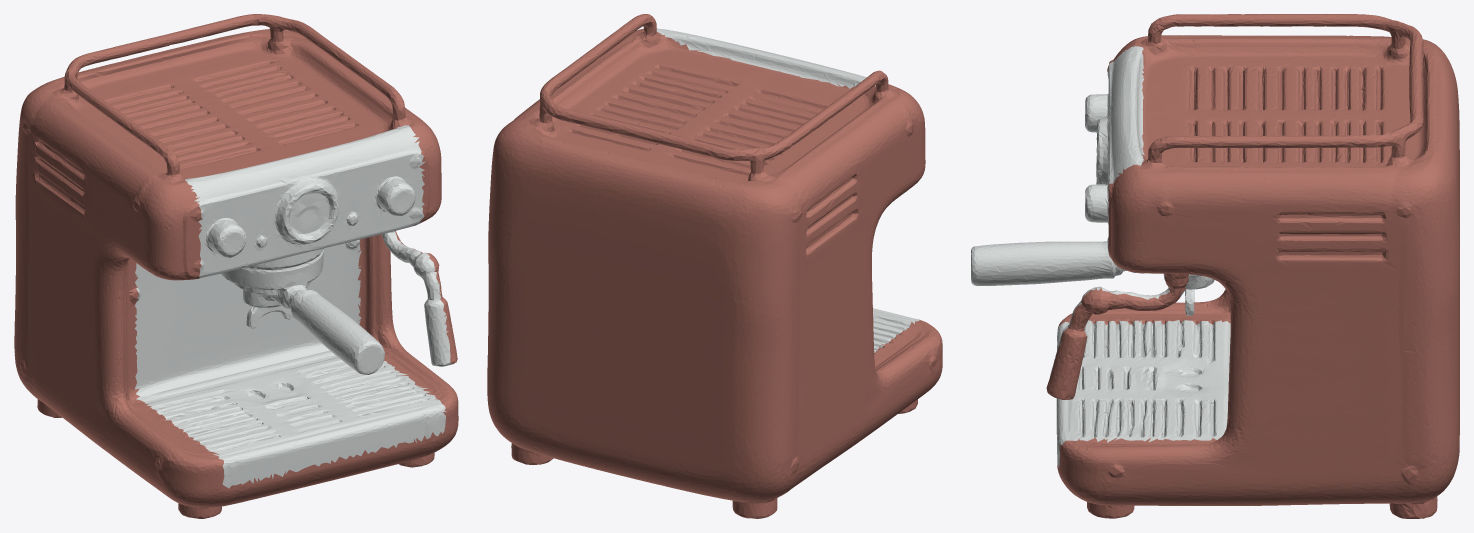
The model's file is espresso-hunyuan.glb.
The picture shows the model from 3 angles, left to right: view 1: azimuth 30°, elevation 25°; view 2: azimuth 150°, elevation 25°; view 3: azimuth 270°, elevation 25°; orthographic projection. The views are drawn at different scales.
Visible parts, largest first — view 1: Burgundy enamel, Brushed steel; view 2: Burgundy enamel, Brushed steel; view 3: Burgundy enamel, Brushed steel.
Part boxes in pixels (box(x1,y1,x2,y2)): Burgundy enamel: box(14, 14, 458, 518); Brushed steel: box(134, 125, 451, 488); Burgundy enamel: box(487, 14, 942, 518); Brushed steel: box(656, 28, 919, 352); Burgundy enamel: box(1046, 14, 1459, 518); Brushed steel: box(971, 46, 1230, 467).
Bounding box in the file's own units: 1.48 × 1.67 × 1.96.
